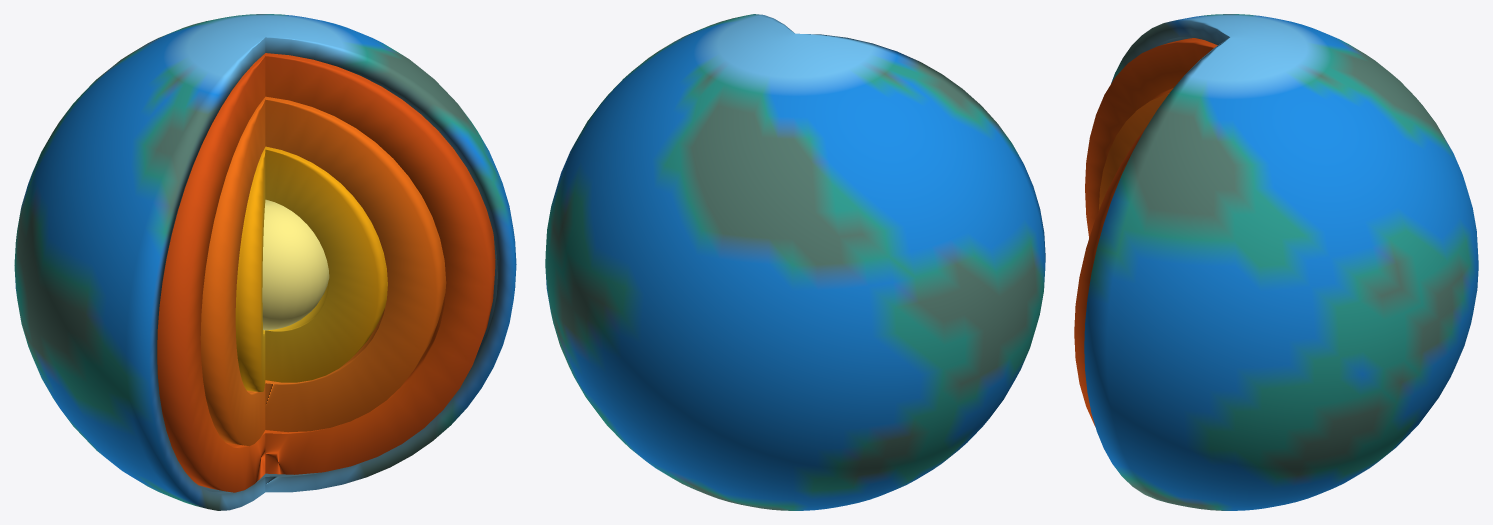
File: 06_earth_geological_layers.glb
3 renders of one model, left to right at view 1: azimuth 30°, elevation 25°; view 2: azimuth 150°, elevation 25°; view 3: azimuth 270°, elevation 25°, orthographic.
Visible parts, largest first — view 1: Continental & Oceanic Crust (0-70 km), Upper Mantle & Asthenosphere (70-660 km), Lower Mantle / Mesosphere (660-2,890 km), Liquid Outer Core (2,890-5,150 km), Solid Inner Core (5,150-6,371 km); view 2: Continental & Oceanic Crust (0-70 km); view 3: Continental & Oceanic Crust (0-70 km), Upper Mantle & Asthenosphere (70-660 km), Lower Mantle / Mesosphere (660-2,890 km).
Part boxes in pixels (x1,y1,x2,y2): Continental & Oceanic Crust (0-70 km): (14,14,516,510); Upper Mantle & Asthenosphere (70-660 km): (157,53,495,492); Lower Mantle / Mesosphere (660-2,890 km): (200,96,446,446); Liquid Outer Core (2,890-5,150 km): (235,146,387,391); Solid Inner Core (5,150-6,371 km): (262,199,329,330); Continental & Oceanic Crust (0-70 km): (545,14,1045,510); Continental & Oceanic Crust (0-70 km): (1084,14,1478,510); Upper Mantle & Asthenosphere (70-660 km): (1074,38,1217,426); Lower Mantle / Mesosphere (660-2,890 km): (1098,93,1169,210).
Bounding box in the file's own units: 292 × 292 × 238.
